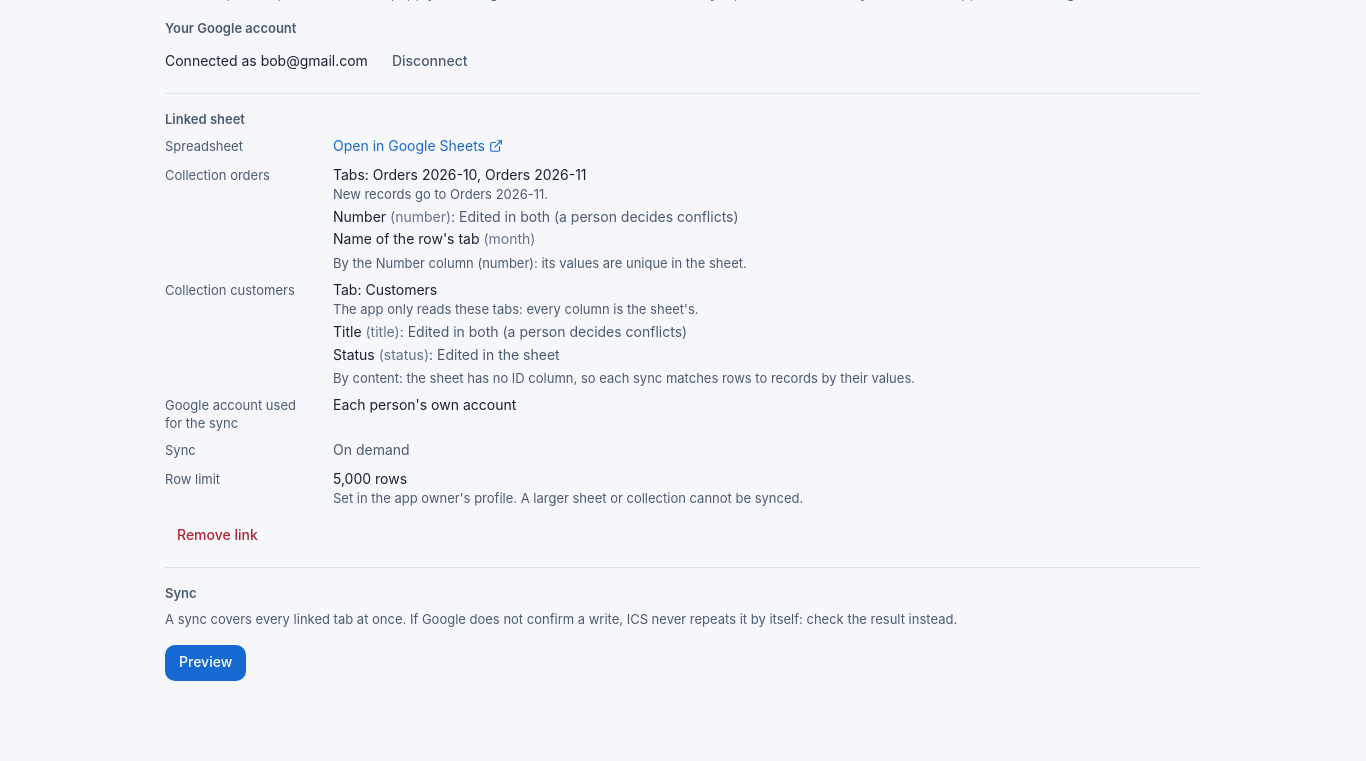
Google Sheets tab, a file with several collections and tabs › names the tab whose headers stop the sync
The width and height of the screenshot is (1366, 761).
(page scrolled)
Click the button "Preview".
click(206, 663)  # box [165,645,246,681]
(page scrolled)
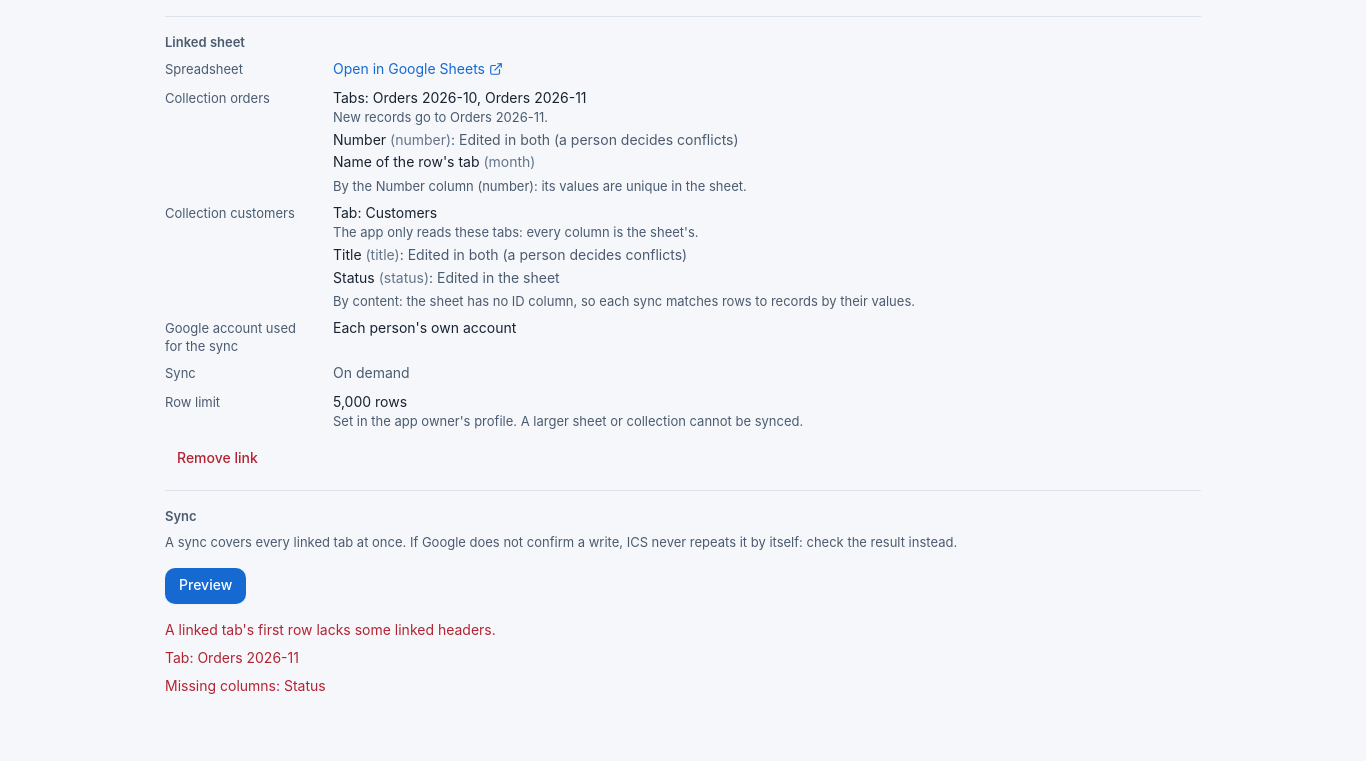
expect the message shows "Tab: Orders 2026-11": met, box [165,649,299,666]
expect the message shows "Missing columns: Status": met, box [165,677,326,694]
